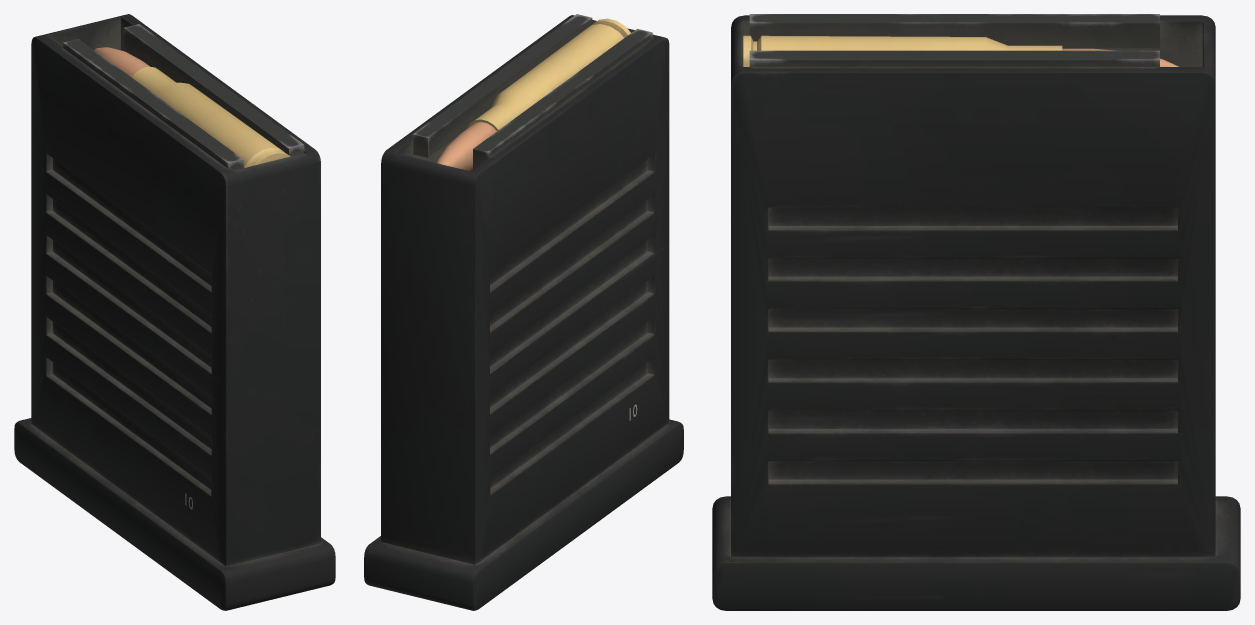
The model's file is carregador_308_10.glb.
The picture shows the model from 3 angles, left to right: view 1: azimuth 30°, elevation 25°; view 2: azimuth 150°, elevation 25°; view 3: azimuth 270°, elevation 25°; orthographic projection. The views are drawn at different scales.
Parts seen in each view (by area): view 1: carregador_308_10_carregador; view 2: carregador_308_10_carregador; view 3: carregador_308_10_carregador.
Part boxes in pixels (<box>): carregador_308_10_carregador: <box>14,14,335,610</box>; carregador_308_10_carregador: <box>364,14,683,610</box>; carregador_308_10_carregador: <box>712,14,1240,610</box>.
Size of the model in its own units: 0.0258 by 0.0963 by 0.085.
1 material, 1 textured.
